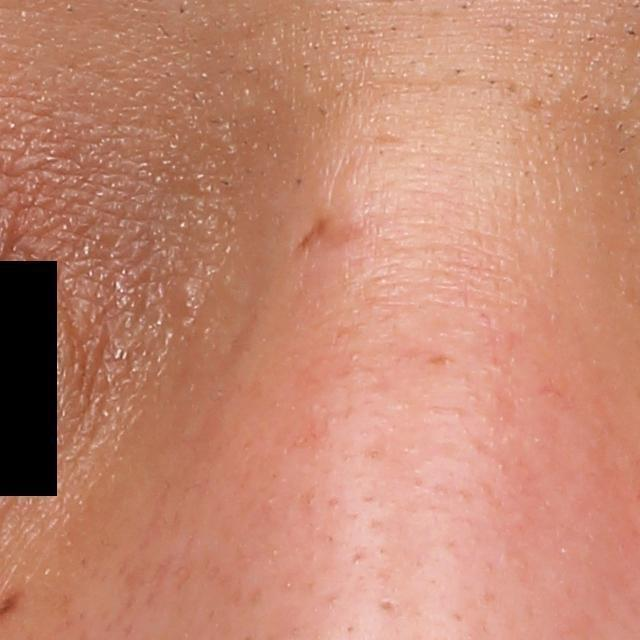atrophic_scar: (294, 216, 362, 254)
comedo: (162, 260, 207, 317), (378, 598, 397, 616)
